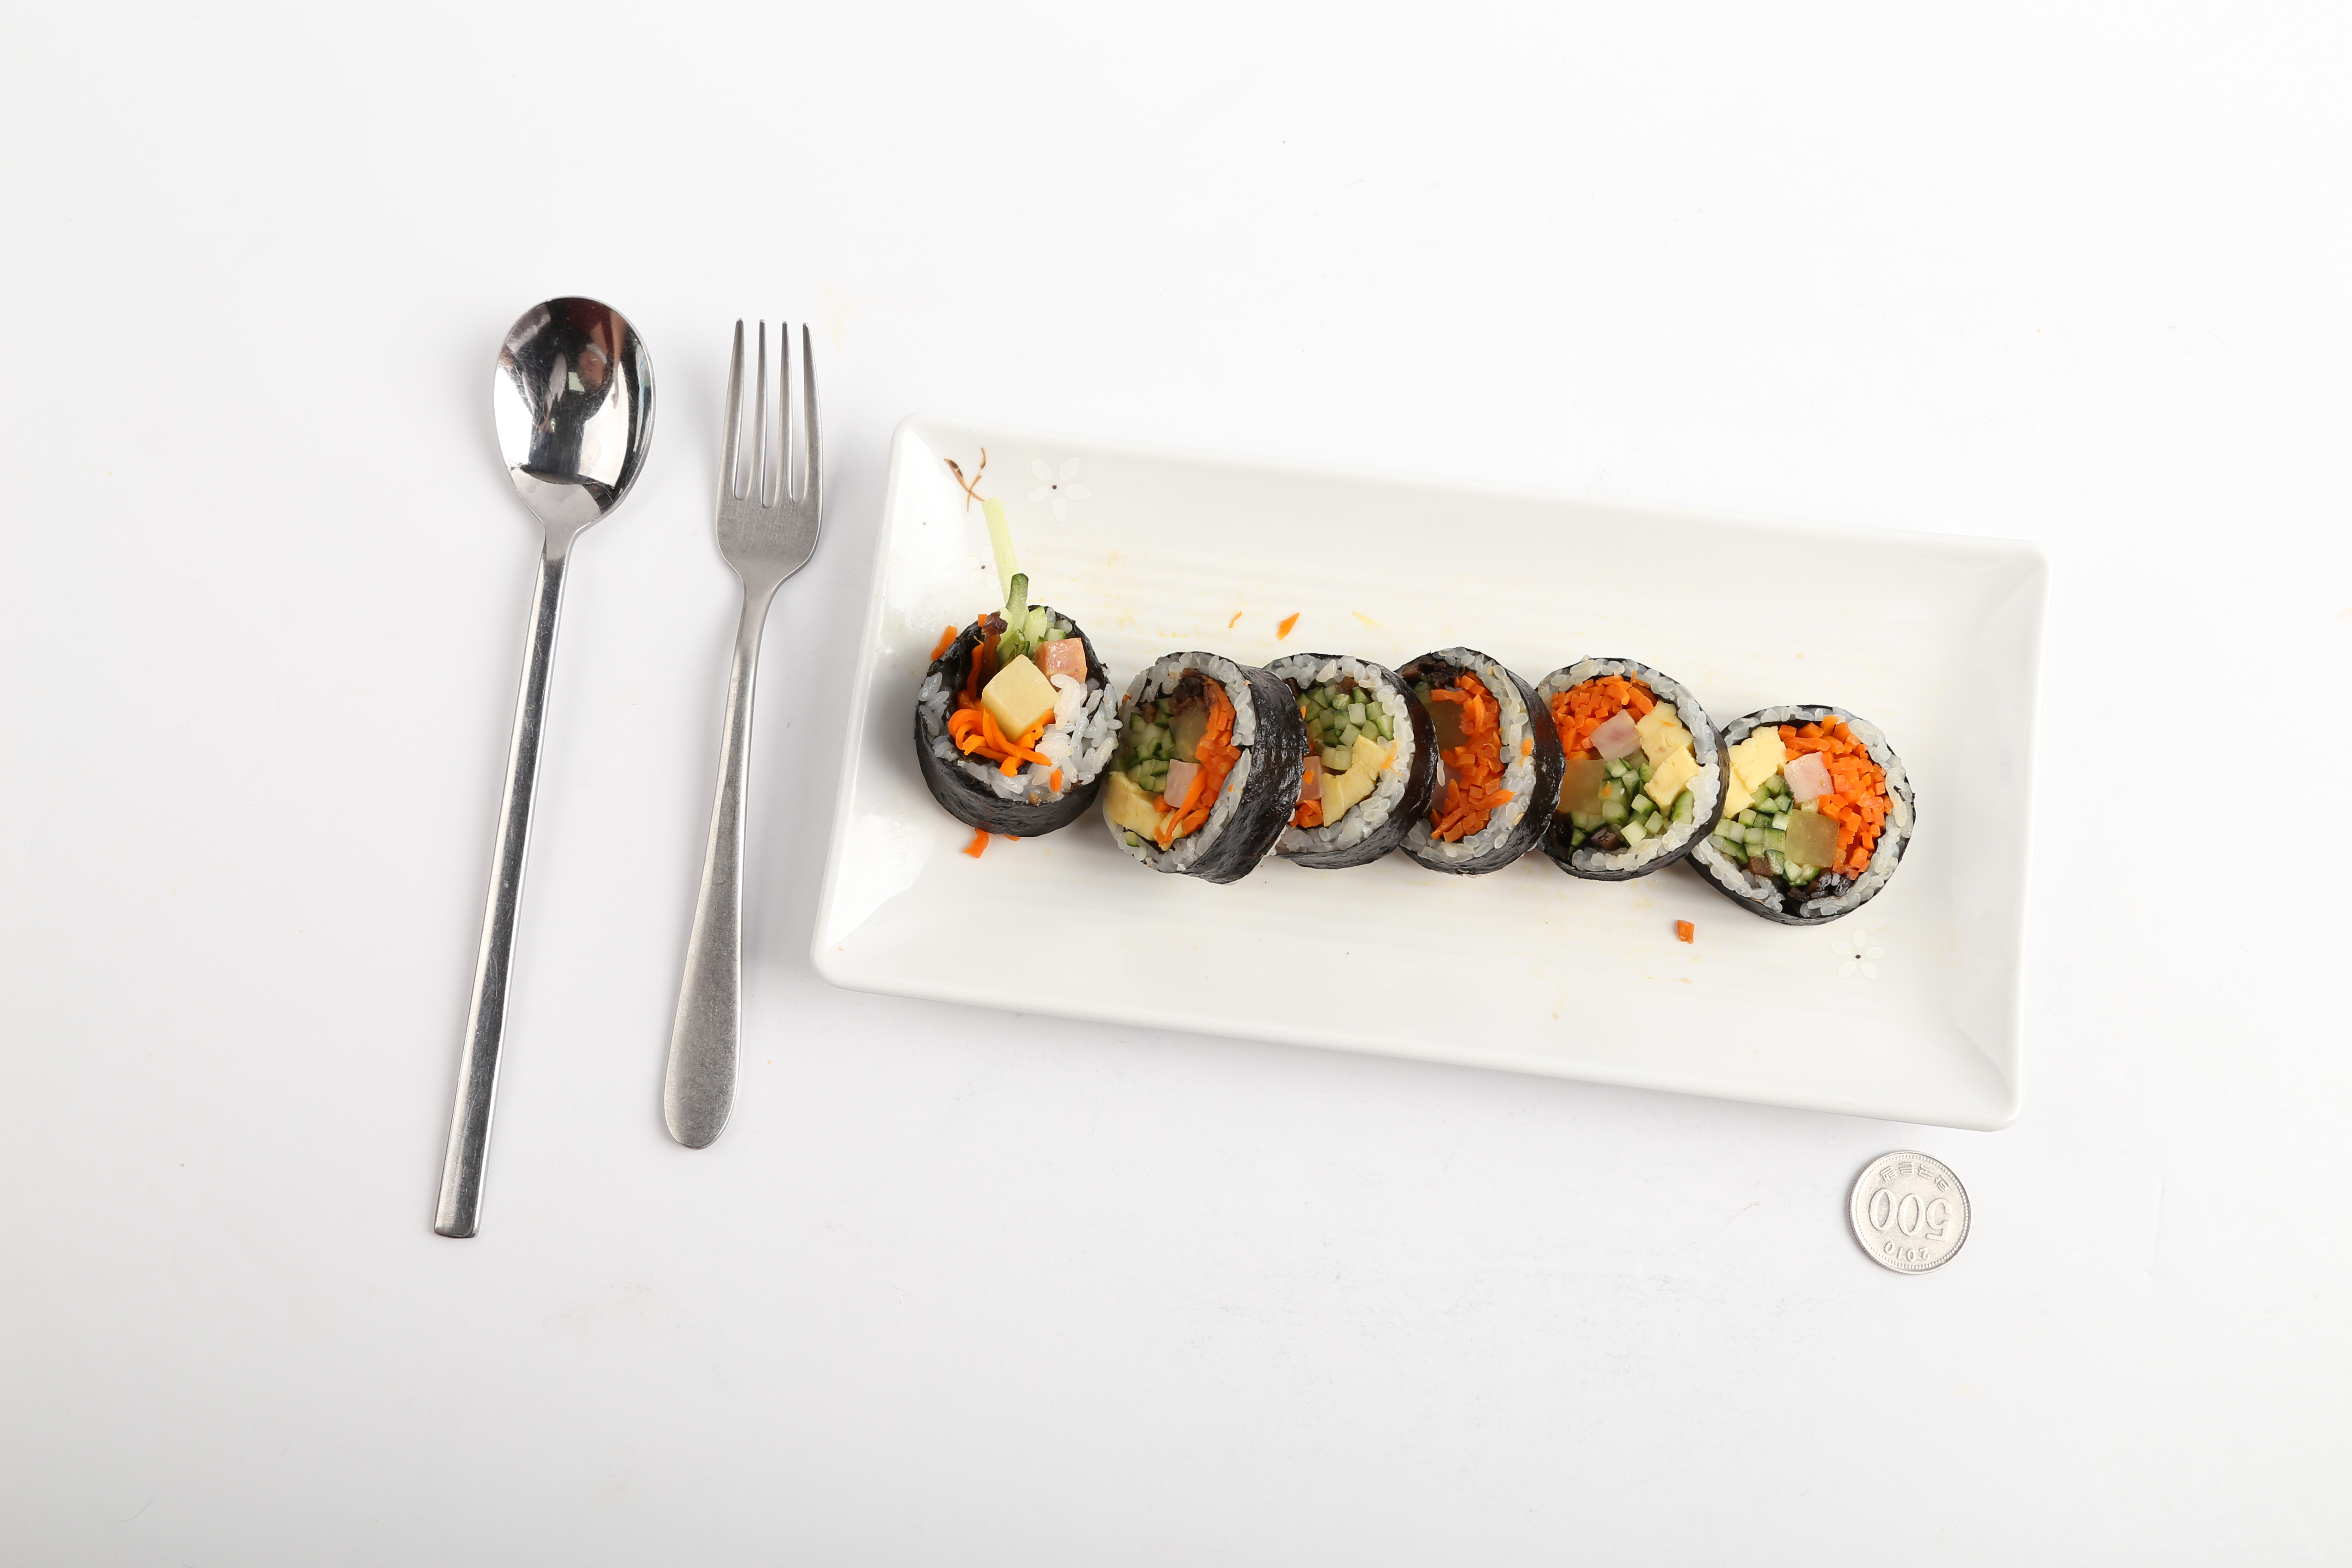dish: (819, 425, 2040, 1125)
ref_coin: (1841, 1144, 1974, 1281)
ref_fork: (707, 315, 829, 619)
ref_spoon: (485, 292, 658, 583)
김밥: (912, 600, 1916, 924)
